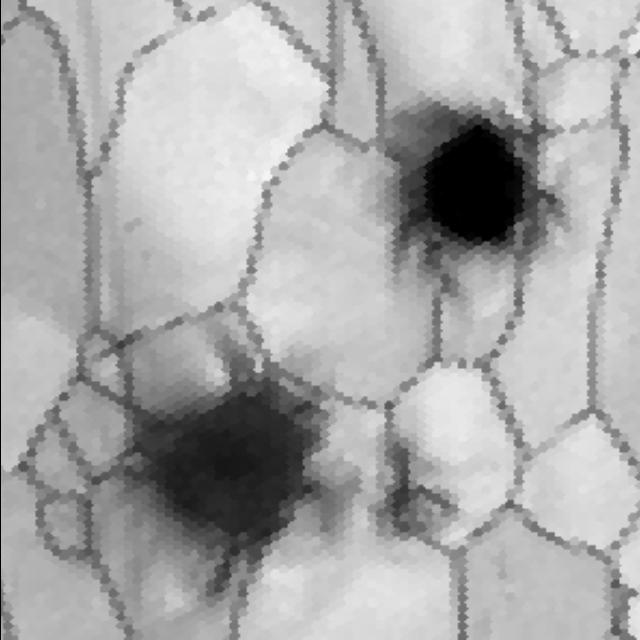good_void: (73, 280, 394, 621), (329, 69, 580, 331), (326, 427, 469, 574), (112, 209, 150, 243)
